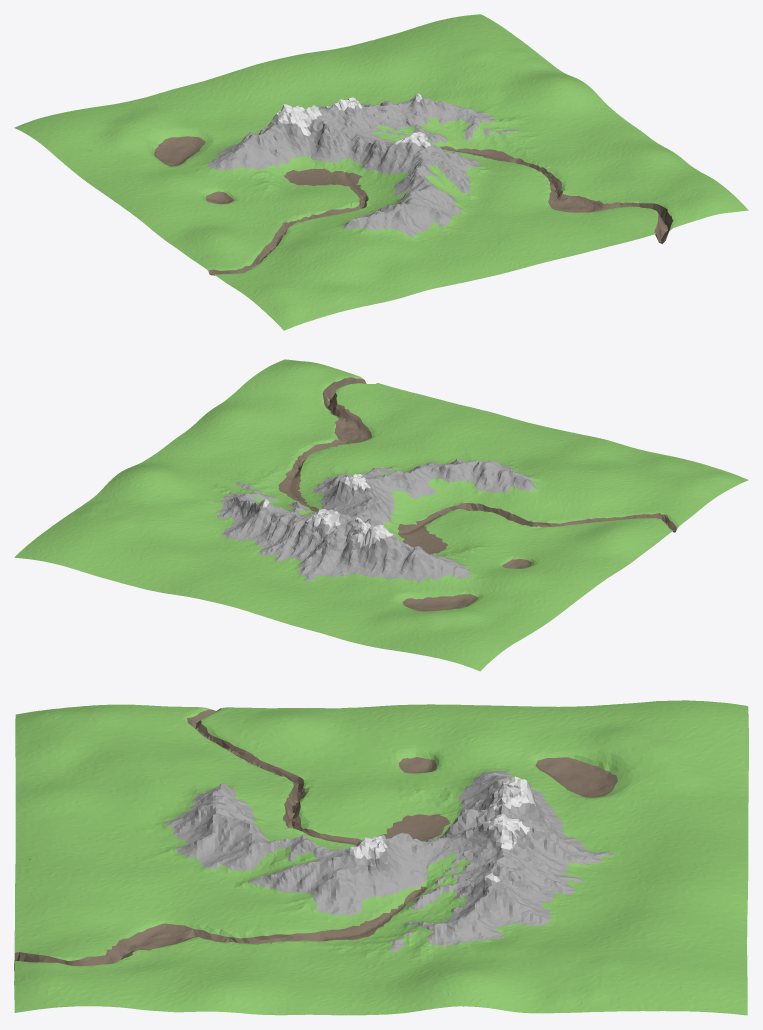
File: Terrain_PackV3.fbx
The picture shows the model from 3 angles, top to bottom: view 1: azimuth 30°, elevation 25°; view 2: azimuth 150°, elevation 25°; view 3: azimuth 270°, elevation 25°; orthographic projection. The views are drawn at different scales.
Parts seen in each view (by area): view 1: Plane; view 2: Plane; view 3: Plane.
Part boxes in pixels (x1,y1,x2,y2): Plane: [14, 14, 748, 330]; Plane: [14, 359, 748, 671]; Plane: [14, 700, 748, 1015].
Size of the model in its own units: 31877 by 3285 by 31919.
